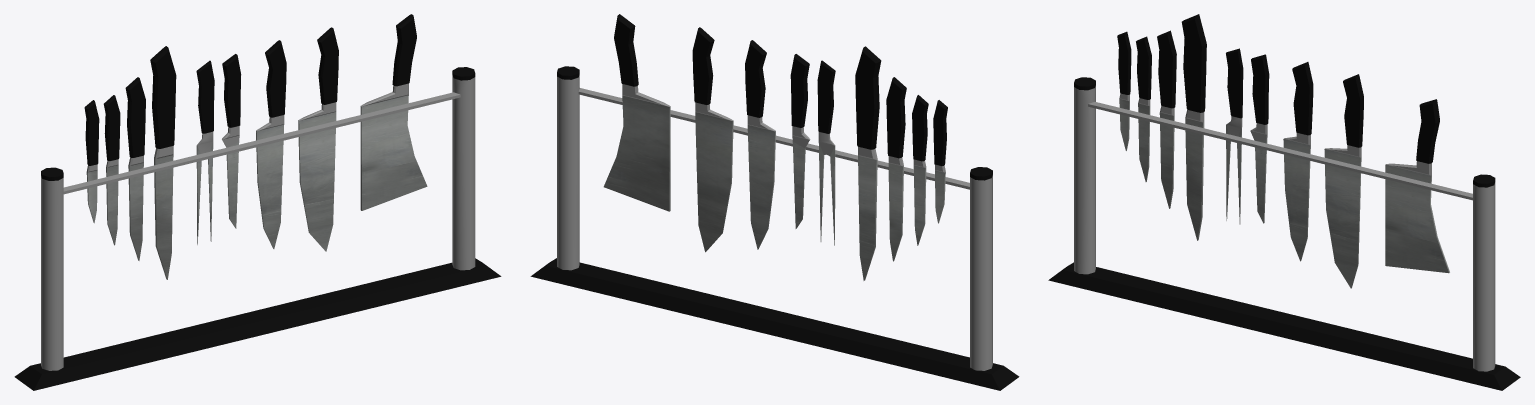
The model's file is kitchen_knives.FBX.
3 views of the same model, side by side, from view 1: azimuth 30°, elevation 25°; view 2: azimuth 150°, elevation 25°; view 3: azimuth 330°, elevation 25° (orthographic). The views are drawn at different scales.
Visible parts, largest first — view 1: butchery_knives; view 2: butchery_knives; view 3: butchery_knives.
Part boxes in pixels (<box>): butchery_knives: <box>14,14,501,390</box>; butchery_knives: <box>530,14,1019,390</box>; butchery_knives: <box>1048,14,1520,390</box>.
Size of the model in its own units: 74.53 by 45.83 by 5.38.
